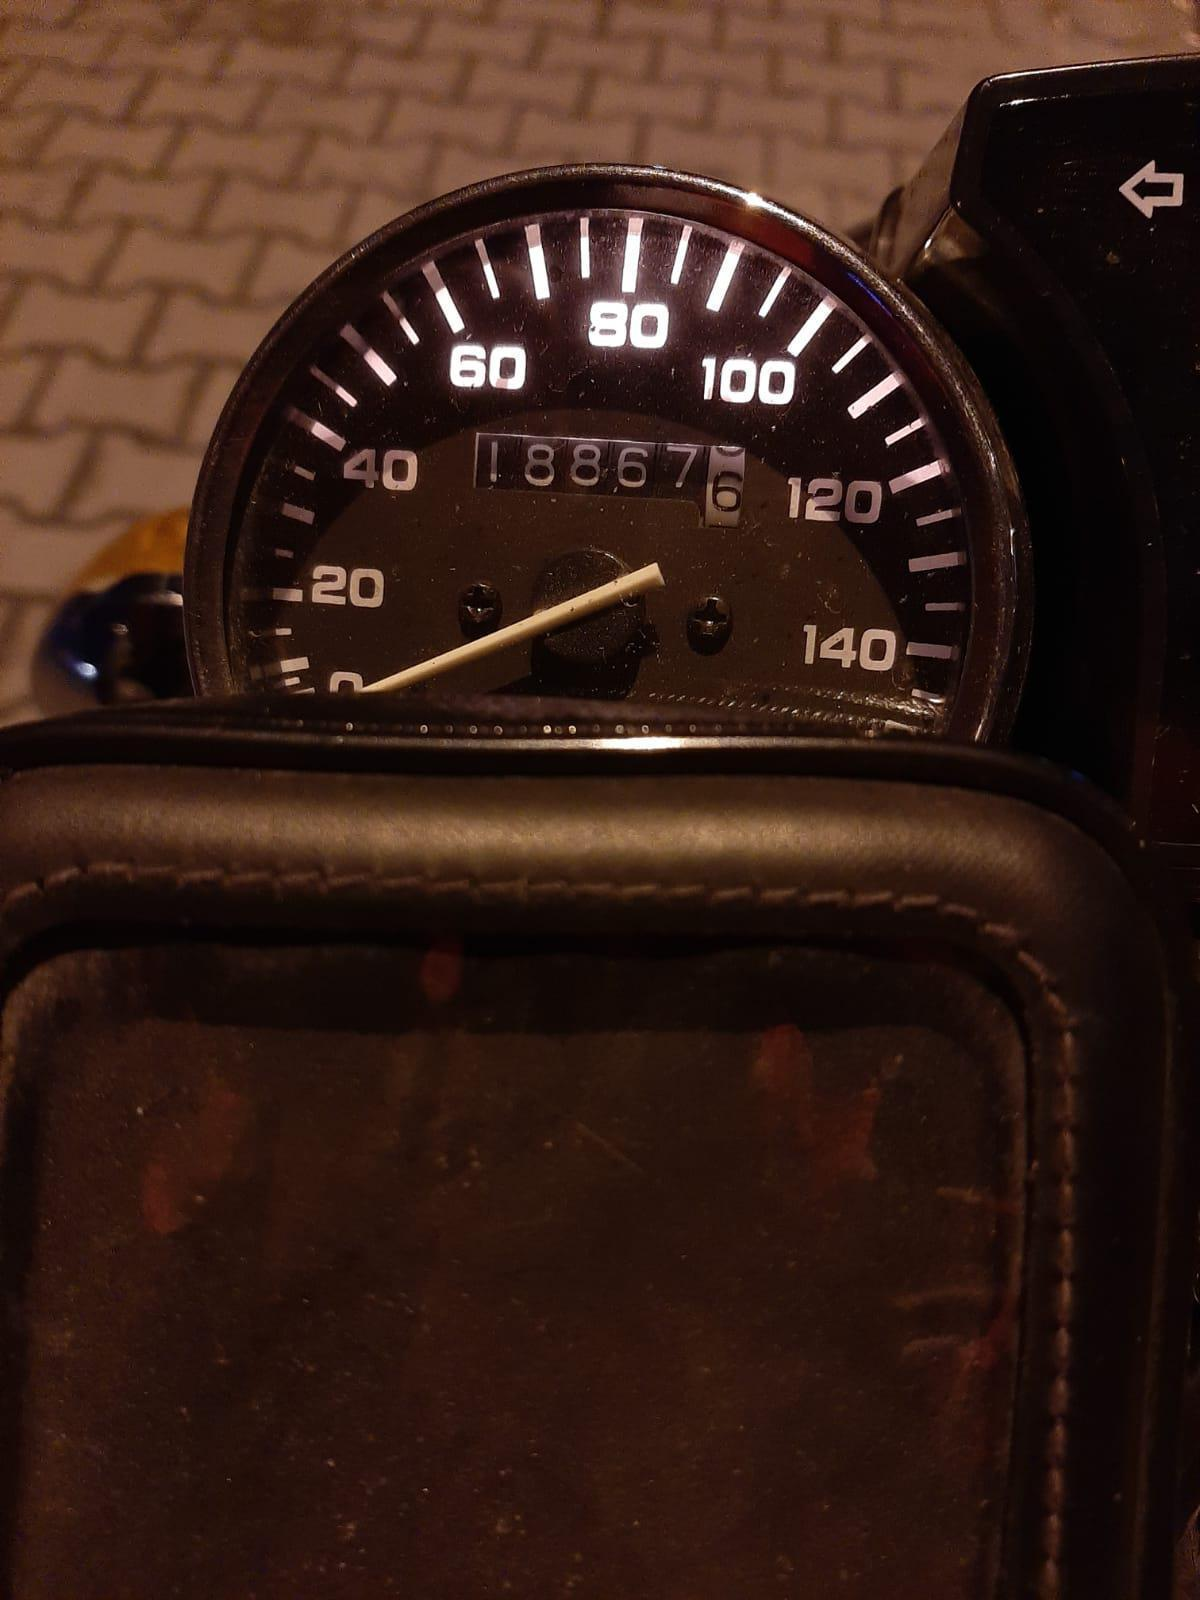1: (487, 436, 503, 486)
6: (710, 467, 746, 513), (614, 446, 648, 491)
7: (666, 442, 698, 489)
8: (521, 442, 558, 489), (571, 440, 604, 486)
odometer: (461, 420, 766, 537)
